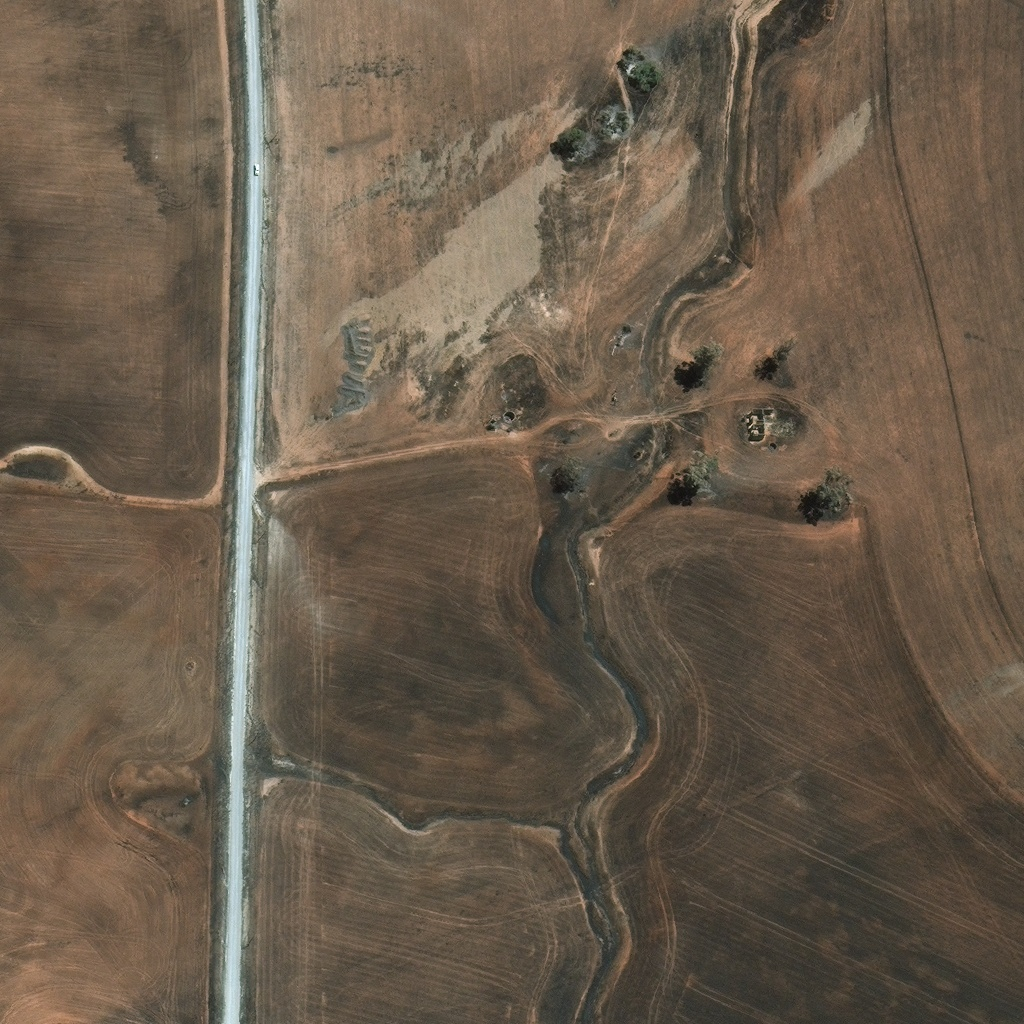3 destroyed: (748, 407, 765, 434), (506, 409, 514, 419), (771, 438, 777, 443)
